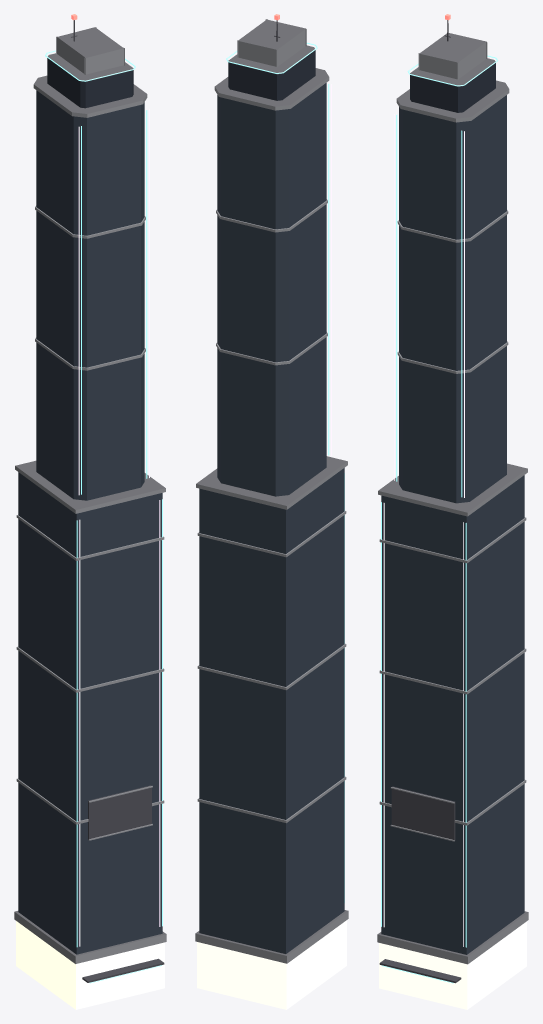
The model's file is r1214_crown.glb.
3 views of the same model, side by side, from view 1: azimuth 30°, elevation 25°; view 2: azimuth 150°, elevation 25°; view 3: azimuth 330°, elevation 25° (orthographic).
Parts seen in each view (by area): view 1: r1214_crown; view 2: r1214_crown; view 3: r1214_crown.
Part boxes in pixels (<box>): r1214_crown: <box>14,14,166,1009</box>; r1214_crown: <box>195,14,348,1009</box>; r1214_crown: <box>377,14,528,1009</box>.
Bounding box in the file's own units: 12.3 × 124 × 15.49.
